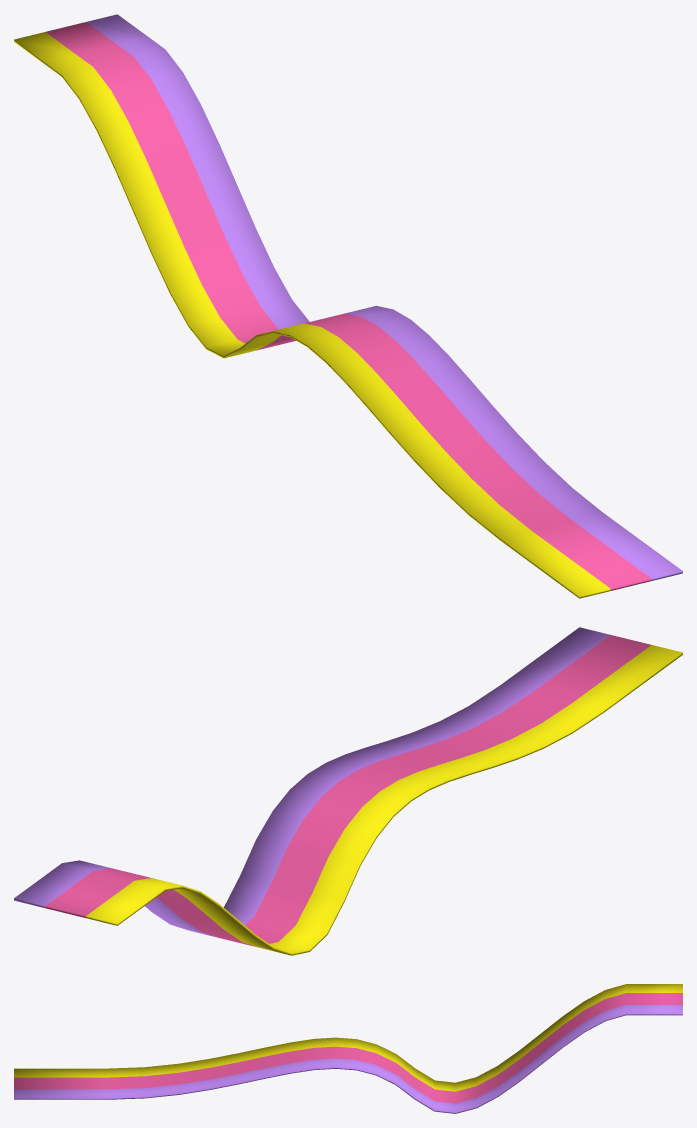
Rendered from yol.fbx.
The picture shows the model from 3 angles, top to bottom: view 1: azimuth 30°, elevation 25°; view 2: azimuth 150°, elevation 25°; view 3: azimuth 270°, elevation 25°; orthographic projection. The views are drawn at different scales.
Visible parts, largest first — view 1: BezierCurve; view 2: BezierCurve; view 3: BezierCurve.
Boxes of the visible parts, left/top/right/bottom form: BezierCurve: left=14, top=14, right=682, bottom=598; BezierCurve: left=14, top=627, right=682, bottom=955; BezierCurve: left=14, top=984, right=682, bottom=1113.
Size of the model in its own units: 169 by 264 by 1601.
